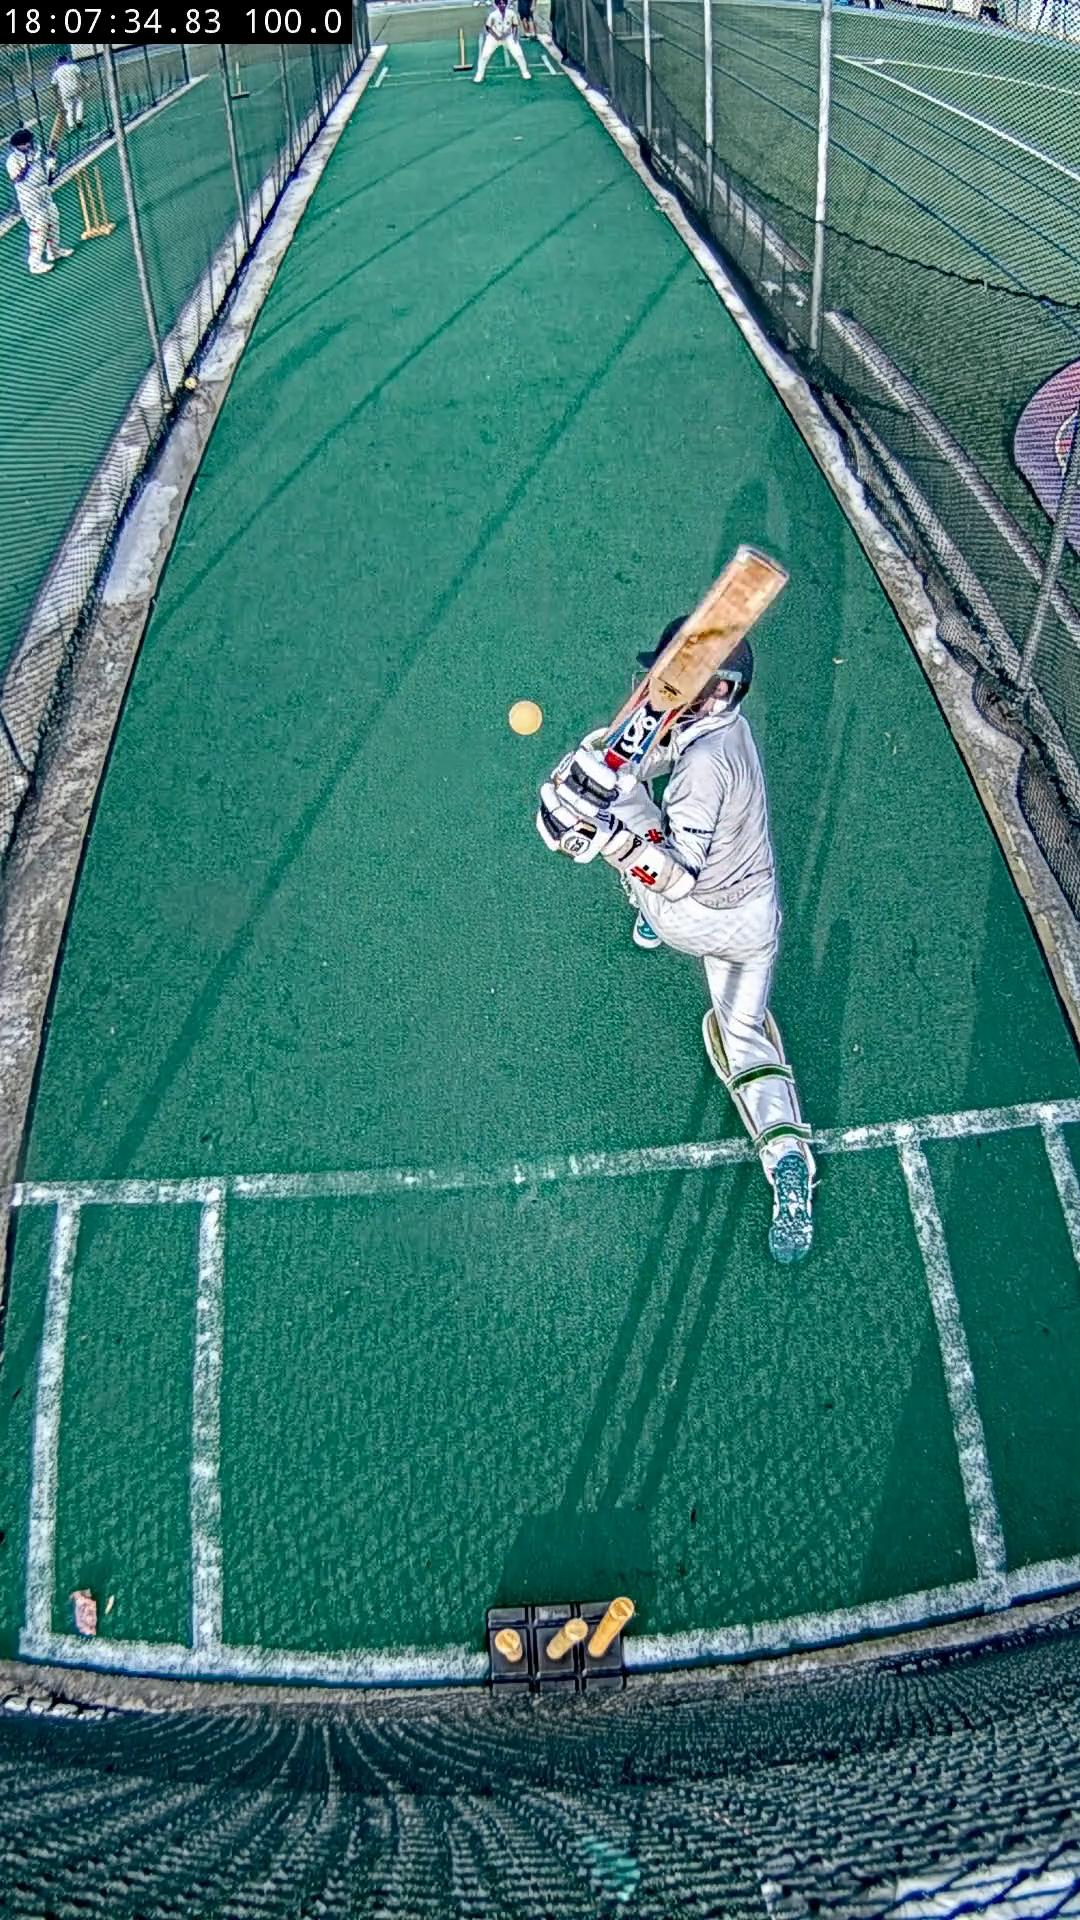ball: (510, 702, 543, 735)
bat: (604, 543, 787, 770)
gloves: (537, 746, 618, 862)
helmet: (637, 615, 686, 671), (716, 637, 754, 699)
stumps: (488, 1597, 634, 1695)
